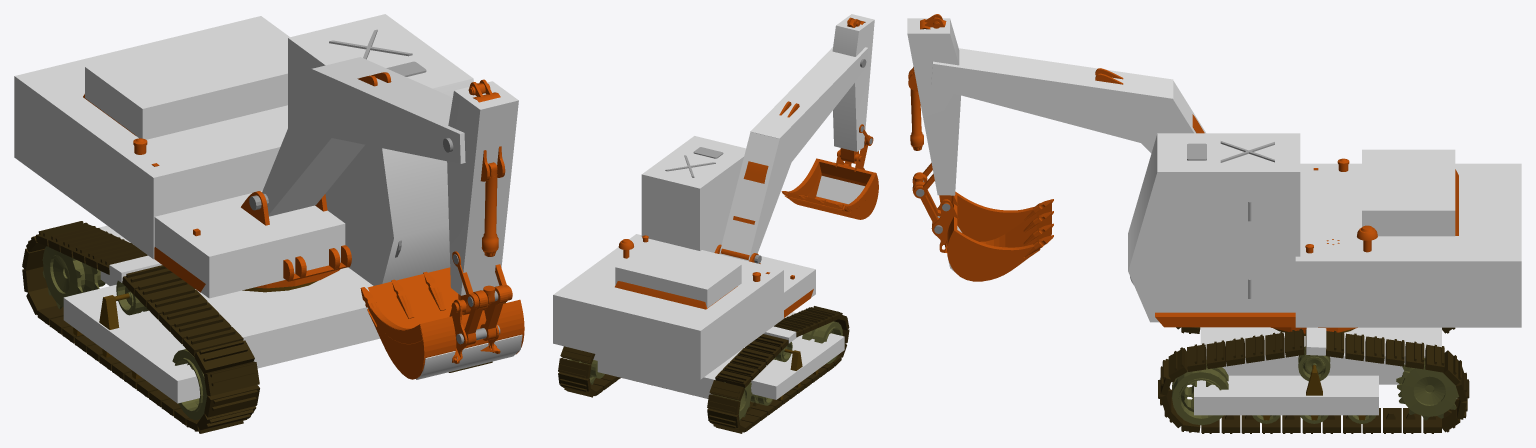
Rendered from excavator.fbx.
3 renders of one model, left to right at view 1: azimuth 30°, elevation 25°; view 2: azimuth 150°, elevation 25°; view 3: azimuth 270°, elevation 25°, orthographic. The views are drawn at different scales.
Parts seen in each view (by area): view 1: hidden_Box001, hidden_convexhull, hidden_convexhull001 (×2), hidden_Box002, hidden_Box003, hidden_box00, hidden_convexhull002, hidden_box002, bucket, EngineBody, arm02, rightGear (+27 smaller); view 2: hidden_Box001, hidden_convexhull, hidden_convexhull001 (×2), hidden_convexhull002, hidden_Box002, hidden_box002, hidden_box00, EngineBody, hidden_Box003, bucket, hidden_convexhull_ b06, Boom (+19 smaller); view 3: hidden_Box001, hidden_convexhull, hidden_convexhull002, hidden_Box002, hidden_convexhull001 (×2), hidden_box001, hidden_box00, EngineBody, hidden_convexhull_ b05, bucket, leftGear, hidden_convexhull_ b00 (+5 smaller).
Boxes of the visible parts, x1,y1,x2,y2 form: hidden_Box001: (14,16,289,259); hidden_convexhull: (288,14,473,285); hidden_convexhull001 (×2): (262,70,518,295); hidden_Box002: (85,29,287,139); hidden_Box003: (154,190,345,298); hidden_box00: (98,225,379,368); hidden_convexhull002: (311,57,465,163); hidden_box002: (63,284,200,403); bucket: (360,271,521,363); EngineBody: (83,94,351,292); arm02: (443,79,505,315); rightGear: (42,246,105,309); hidden_Box001: (553,234,783,379); hidden_convexhull: (641,136,745,252); hidden_convexhull001 (×2): (719,14,874,261); hidden_convexhull002: (750,47,868,162); hidden_Box002: (615,242,741,307); hidden_box002: (751,333,844,399); hidden_box00: (593,312,797,398); EngineBody: (615,235,813,317); hidden_Box003: (760,256,815,309); bucket: (781,149,878,212); hidden_convexhull_ b06: (816,176,864,204); Boom: (720,101,799,260); hidden_Box001: (1295,163,1521,327); hidden_convexhull: (1128,133,1300,322); hidden_convexhull002: (931,48,1173,143); hidden_Box002: (1362,149,1455,236); hidden_convexhull001 (×2): (907,18,1205,195); hidden_box001: (1194,375,1378,415); hidden_box00: (1200,327,1441,384); EngineBody: (1155,158,1458,333); hidden_convexhull_ b05: (947,229,1040,281); bucket: (931,194,1053,257); leftGear: (1396,358,1458,420); hidden_convexhull_ b00: (955,191,1033,241).
Size of the model in its own units: 195 by 393 by 249.
